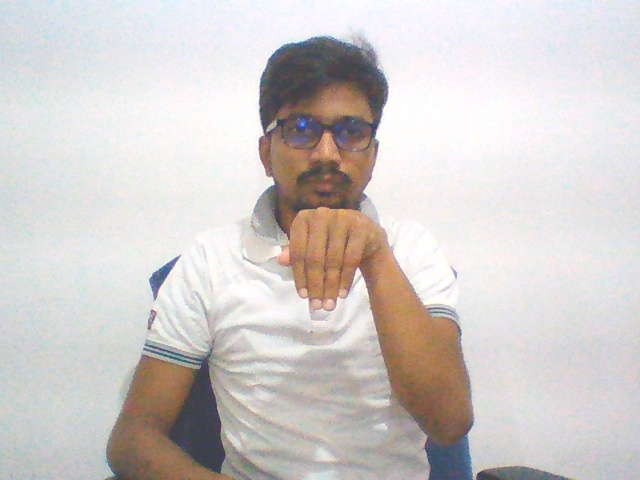Squirrel: (273, 200, 390, 318)
